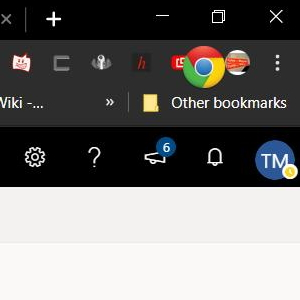chrome: (182, 45, 226, 89)
